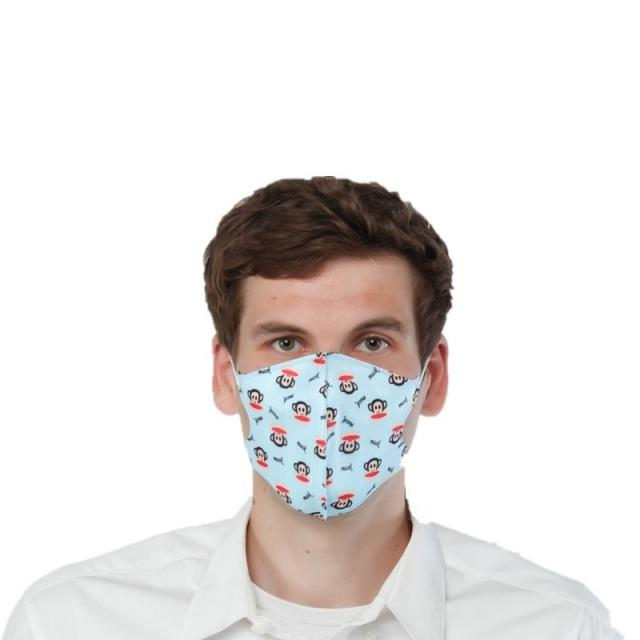mask: (231, 254, 420, 509)
